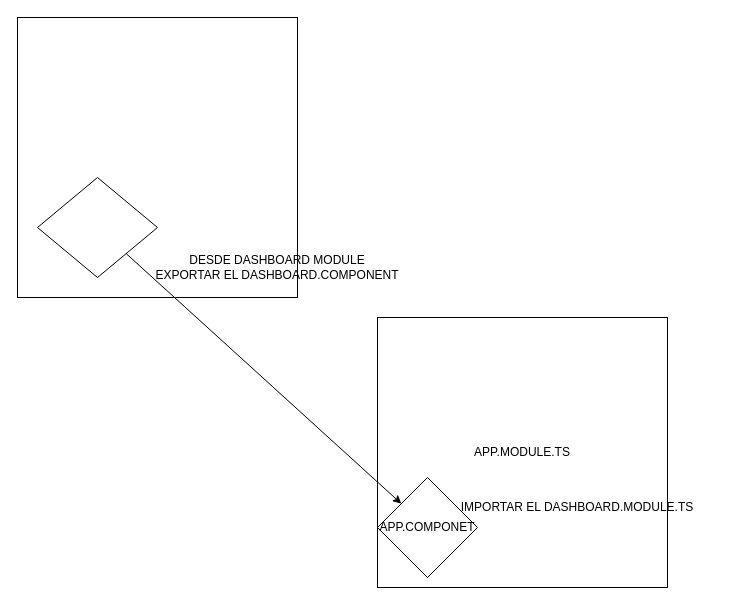
The diagram is 735 pixels wide and 605 high, and some of its shapes have lost their labels. Here are the shapes that lost their labels. From the top down, the box of each, then its label:
(16, 16, 298, 298): DASHBOARD.MODULE.TS
(36, 176, 158, 278): DASHBOARD COMPONENT
